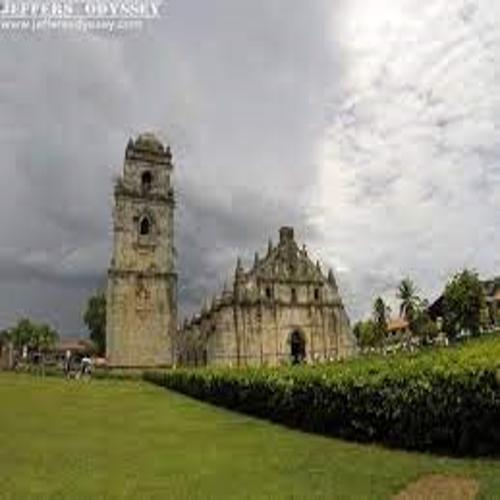Paoay Church: (91, 123, 367, 379)
